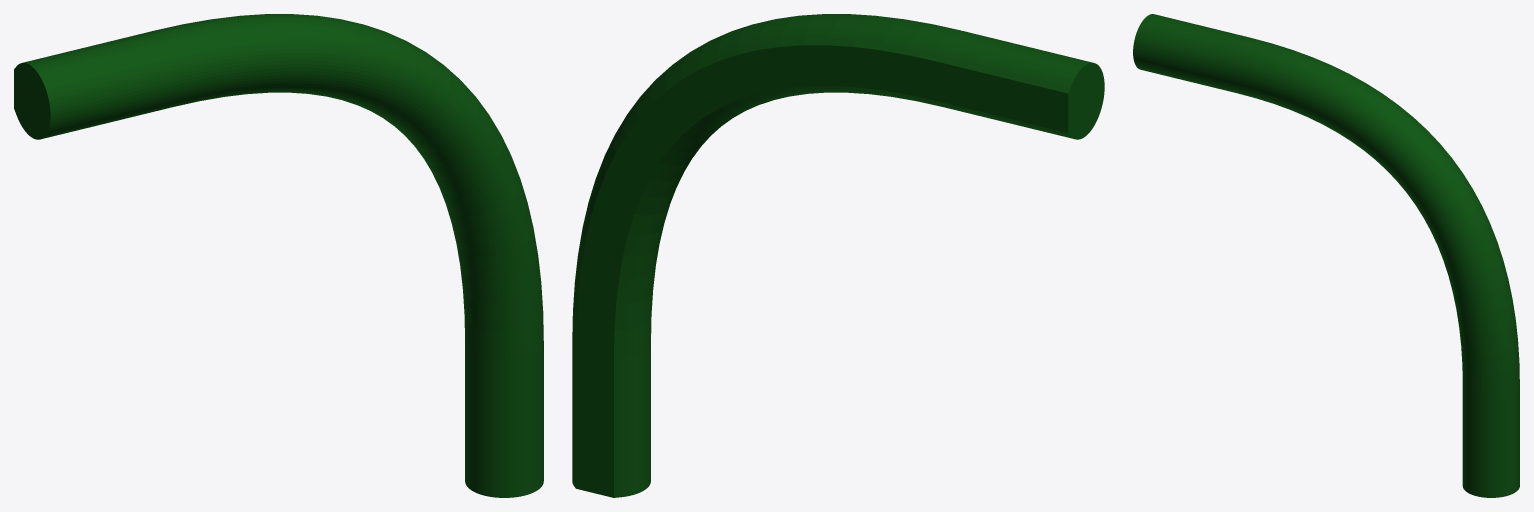
The model's file is stem_3B_90_L.glb.
The picture shows the model from 3 angles, left to right: view 1: azimuth 30°, elevation 25°; view 2: azimuth 150°, elevation 25°; view 3: azimuth 330°, elevation 25°; orthographic projection. The views are drawn at different scales.
Parts seen in each view (by area): view 1: stem_3B_90_L; view 2: stem_3B_90_L; view 3: stem_3B_90_L.
Boxes of the visible parts, x1=… form: stem_3B_90_L: x1=14, y1=14, x2=543, y2=497; stem_3B_90_L: x1=572, y1=14, x2=1104, y2=497; stem_3B_90_L: x1=1133, y1=14, x2=1519, y2=497.
Bounding box in the file's own units: 0.0536 × 0.0536 × 0.00666.
